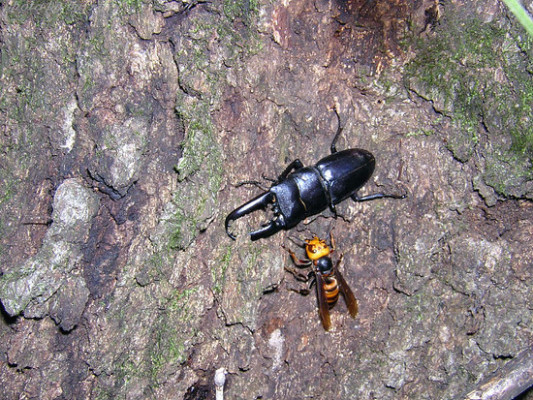asian_giant_hornet: (285, 232, 365, 330)
